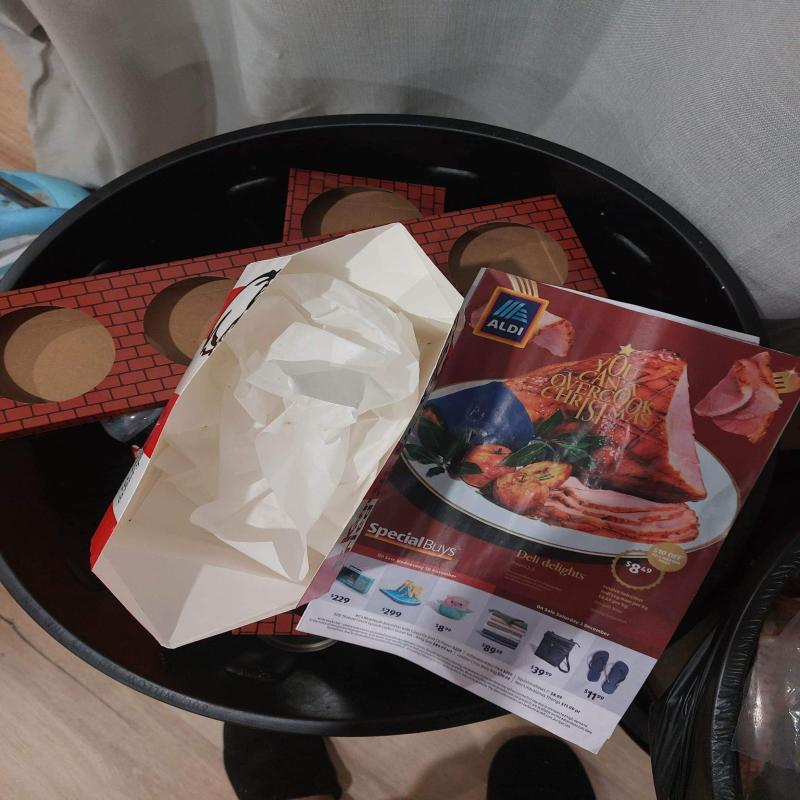cardboard: (90, 223, 464, 650), (0, 223, 394, 440), (400, 195, 609, 299), (283, 167, 445, 242)
paper: (297, 271, 800, 755), (121, 273, 421, 584)
